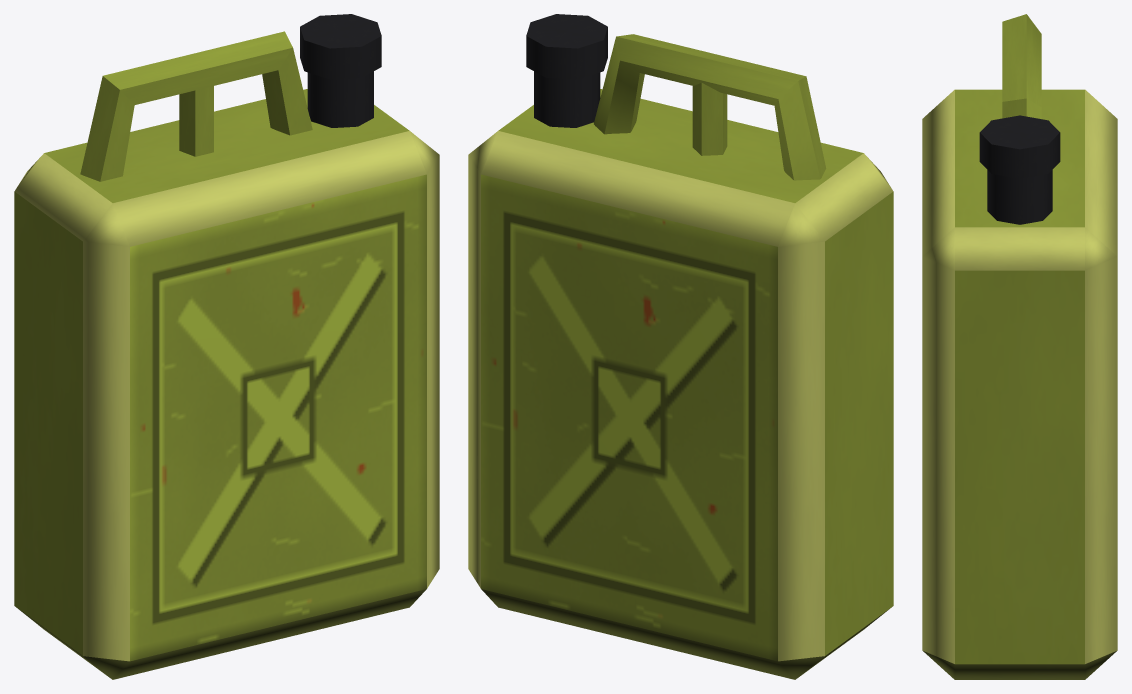
Rendered from Jerrycan_Green.fbx.
3 renders of one model, left to right at view 1: azimuth 30°, elevation 25°; view 2: azimuth 150°, elevation 25°; view 3: azimuth 270°, elevation 25°, orthographic. The views are drawn at different scales.
Visible parts, largest first — view 1: Jerrycan_Green_Body; view 2: Jerrycan_Green_Body; view 3: Jerrycan_Green_Body.
Boxes of the visible parts, left/top/right/bottom form: Jerrycan_Green_Body: left=14, top=14, right=439, bottom=679; Jerrycan_Green_Body: left=468, top=14, right=893, bottom=679; Jerrycan_Green_Body: left=922, top=14, right=1117, bottom=679.
Bounding box in the file's own units: 0.36 × 0.5498 × 0.18.
Materials: 1 (1 with a texture image).
